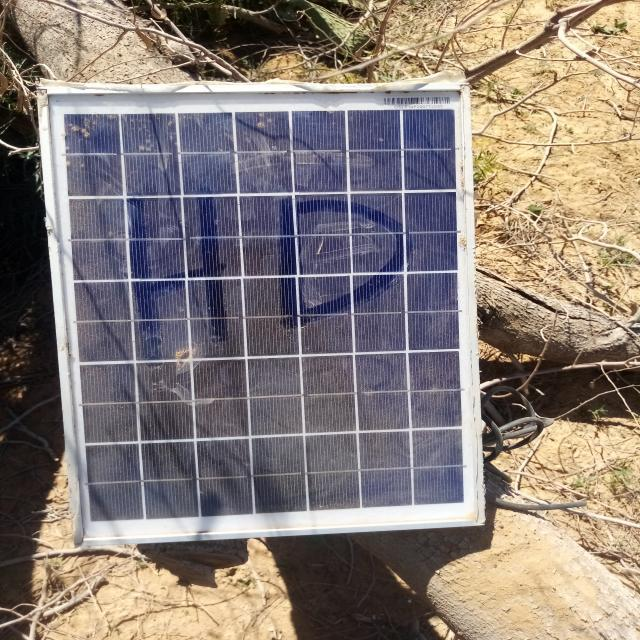faulty: (43, 82, 486, 545)
